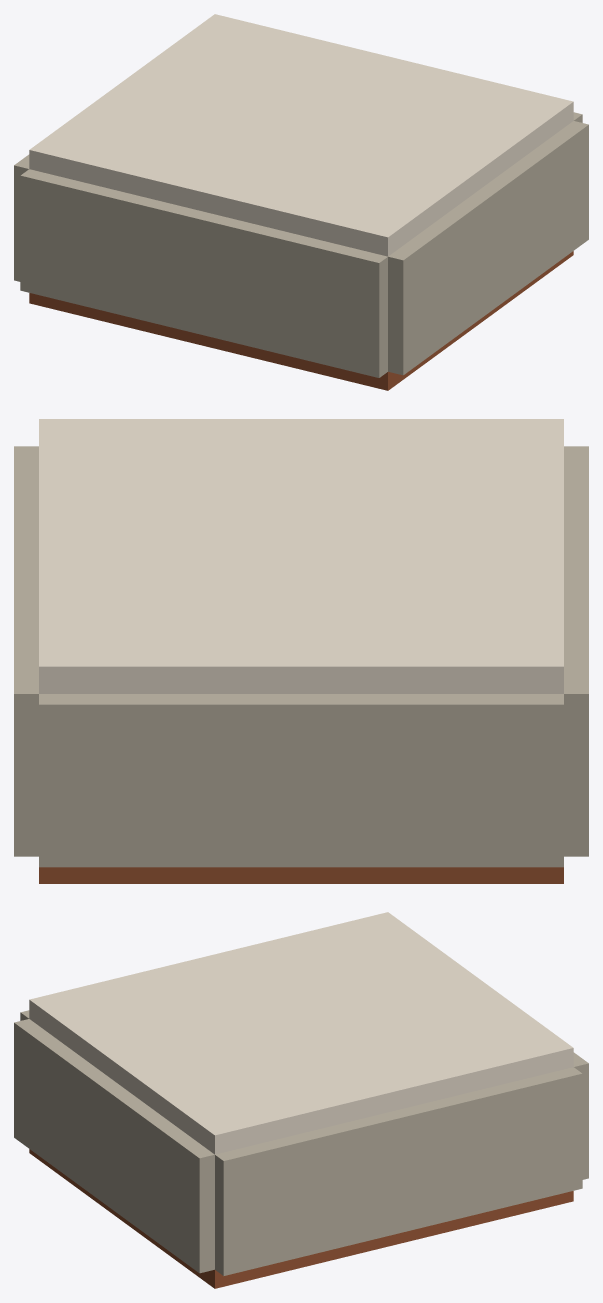
3 renders of one model, top to bottom at view 1: azimuth 30°, elevation 25°; view 2: azimuth 150°, elevation 25°; view 3: azimuth 270°, elevation 25°, orthographic. The views are drawn at different scales.
Visible parts, largest first — view 1: Ceiling, Wall_04, Wall_01, Floor, Wall_03; view 2: Ceiling, Wall_03, Wall_02, Wall_04, Floor; view 3: Ceiling, Wall_02, Wall_01, Floor, Wall_03.
Part boxes in pixels (x1=…): Ceiling: x1=29, y1=14, x2=573, y2=256; Wall_04: x1=20, y1=169, x2=387, y2=377; Wall_01: x1=388, y1=121, x2=588, y2=375; Floor: x1=29, y1=251, x2=573, y2=390; Wall_03: x1=14, y1=154, x2=29, y2=281; Ceiling: x1=39, y1=419, x2=563, y2=693; Wall_03: x1=39, y1=694, x2=563, y2=867; Wall_02: x1=14, y1=446, x2=38, y2=856; Wall_04: x1=564, y1=446, x2=588, y2=856; Floor: x1=39, y1=867, x2=563, y2=883; Ceiling: x1=29, y1=912, x2=573, y2=1154; Wall_02: x1=215, y1=1067, x2=582, y2=1275; Wall_01: x1=14, y1=1019, x2=214, y2=1273; Floor: x1=29, y1=1149, x2=573, y2=1288; Wall_03: x1=573, y1=1052, x2=588, y2=1179.
Size of the model in its own units: 7.91 by 2.4 by 8.13.
